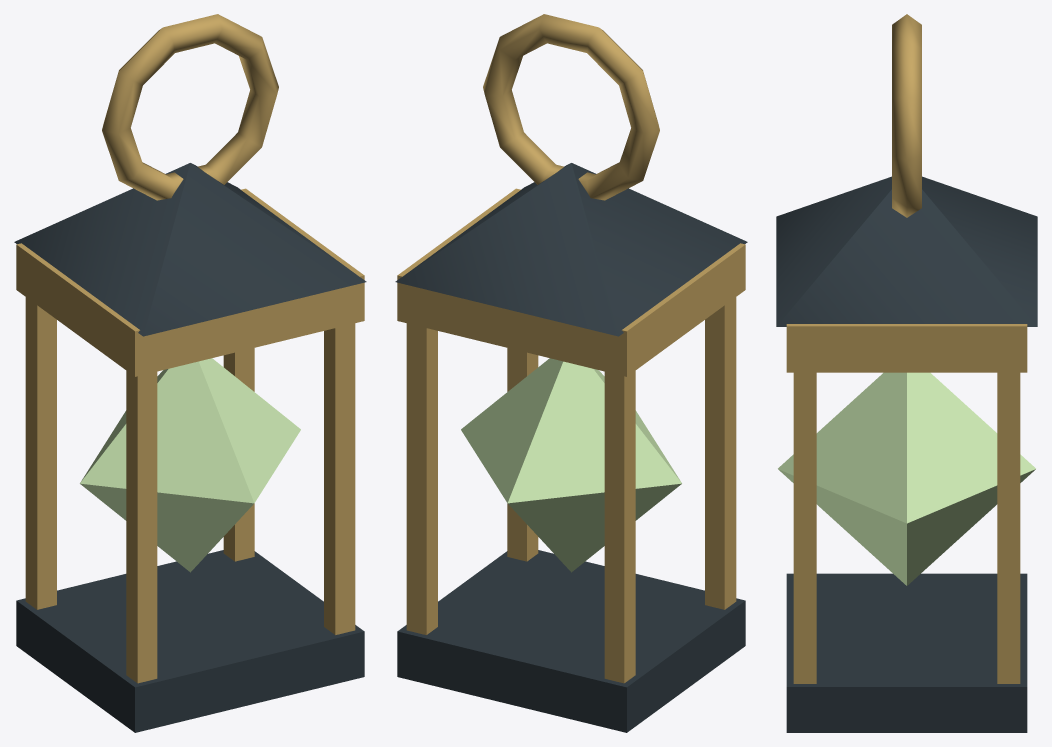
File: fixed-lantern.glb
The picture shows the model from 3 angles, left to right: view 1: azimuth 30°, elevation 25°; view 2: azimuth 150°, elevation 25°; view 3: azimuth 270°, elevation 25°; orthographic projection.
Visible parts, largest first — view 1: piece_whole; view 2: piece_whole; view 3: piece_whole.
Boxes of the visible parts, x1,y1,x2,y2 form: piece_whole: (14, 14, 366, 732); piece_whole: (395, 14, 747, 732); piece_whole: (776, 14, 1037, 732).
Bounding box in the file's own units: 0.29 × 0.774 × 0.2828.
